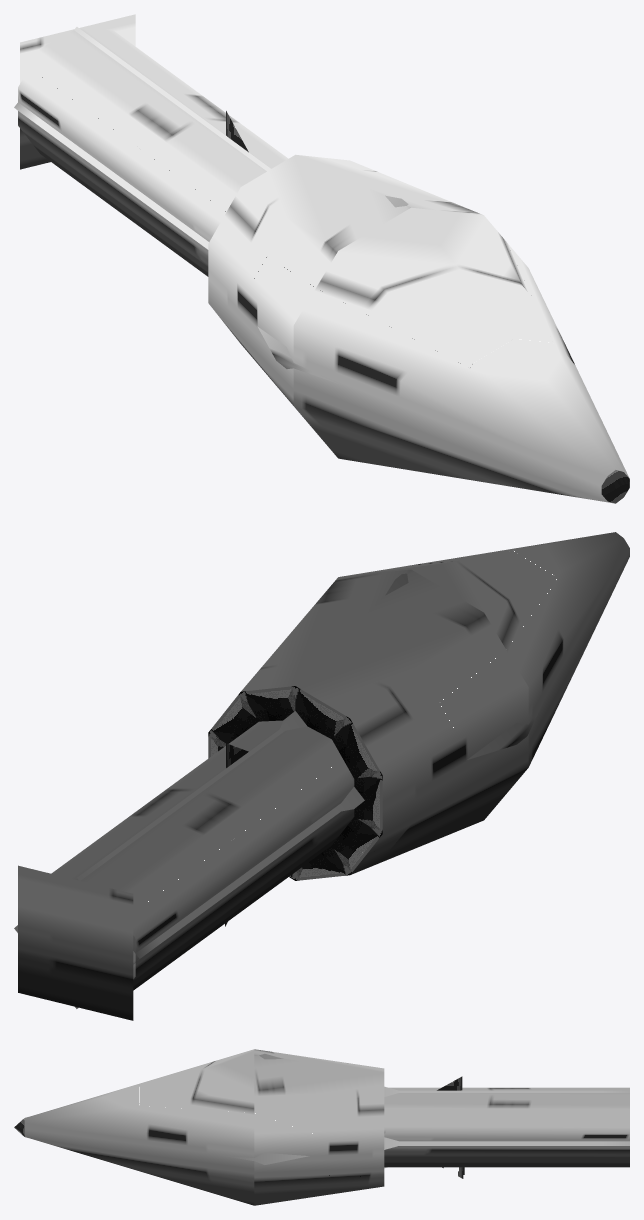
File: PchrrocketZ.obj
3 renders of one model, top to bottom at view 1: azimuth 30°, elevation 25°; view 2: azimuth 150°, elevation 25°; view 3: azimuth 270°, elevation 25°, orthographic. The views are drawn at different scales.
Size of the model in its own units: 124 by 124 by 469.
4 materials, 4 textured.
